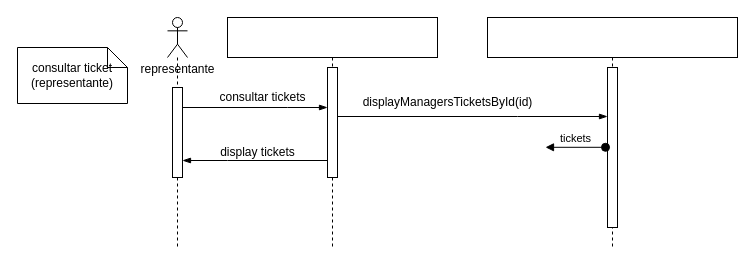
The diagram is 755 pixels wide and 265 high, and some of its shapes have lost their labels. Here are the shapes that lost their labels. From the top down, the box of each, then its label:
(226, 16, 438, 248): GUI::Menu
(486, 16, 738, 248): TC::TicketController
